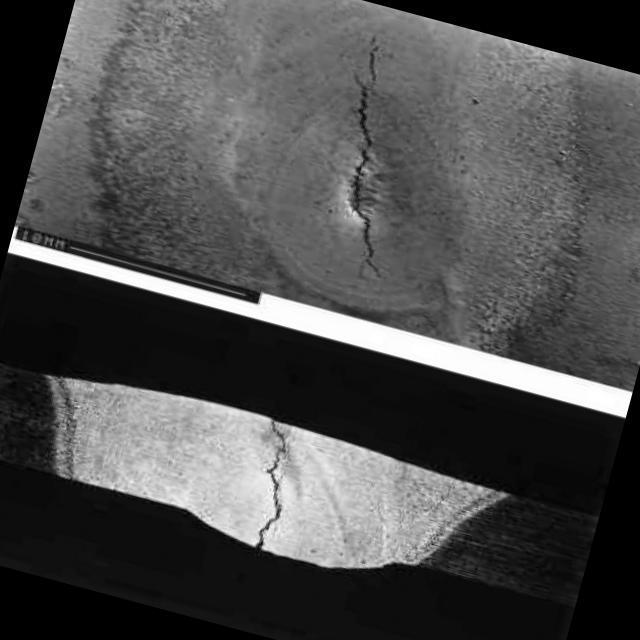defect: (343, 38, 389, 286), (248, 416, 291, 552)
